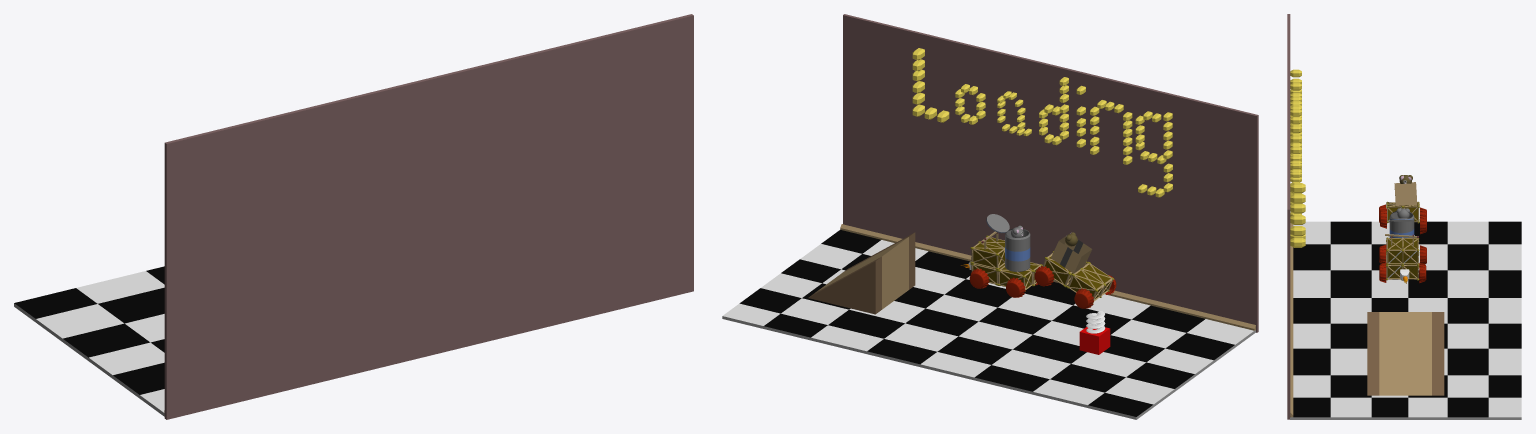
File: 3D_LoadingScreenRecyclingRats 1.fbx
The picture shows the model from 3 angles, left to right: view 1: azimuth 30°, elevation 25°; view 2: azimuth 150°, elevation 25°; view 3: azimuth 270°, elevation 25°; orthographic projection. The views are drawn at different scales.
Visible parts, largest first — view 1: wall, floor; view 2: wall, floor, Ramp, floorWall, tincan, cardboardBox, PavelDobias_BodyVehicle5, redBox, PavelDobias_BodyVehicle8, PavelDobias_BodyVehicle4; view 3: floor, Ramp, wall, floorWall, cardboardBox, tincan, PavelDobias_BodyVehicle6, PavelDobias_BodyVehicle5, PavelDobias_BodyVehicle2.
Part boxes in pixels (<box>): wall: <box>164,14,693,419</box>; floor: <box>14,266,164,416</box>; wall: <box>843,14,1258,332</box>; floor: <box>722,229,1255,419</box>; Ramp: <box>808,232,915,314</box>; floorWall: <box>840,224,1255,330</box>; tincan: <box>1005,228,1030,271</box>; cardboardBox: <box>1051,234,1092,273</box>; PavelDobias_BodyVehicle5: <box>970,241,1004,269</box>; redBox: <box>1079,327,1110,354</box>; PavelDobias_BodyVehicle8: <box>1066,268,1105,303</box>; PavelDobias_BodyVehicle4: <box>997,265,1033,291</box>; floor: <box>1290,221,1521,419</box>; Ramp: <box>1367,312,1444,395</box>; wall: <box>1287,14,1290,419</box>; floorWall: <box>1290,223,1293,417</box>; cardboardBox: <box>1394,182,1417,205</box>; tincan: <box>1389,211,1414,237</box>; PavelDobias_BodyVehicle6: <box>1386,237,1403,265</box>; PavelDobias_BodyVehicle5: <box>1401,237,1419,265</box>; PavelDobias_BodyVehicle2: <box>1386,253,1402,280</box>.
Size of the model in its own units: 150 by 75 by 75.91.
